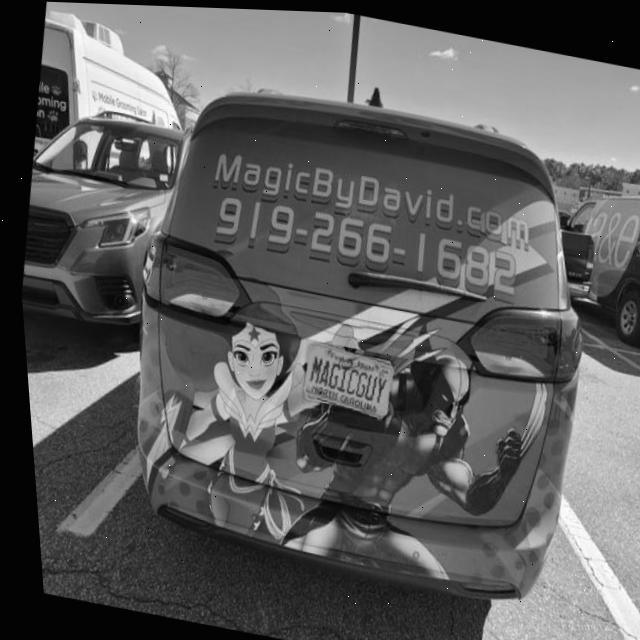LicensePlate: (296, 340, 389, 418)
